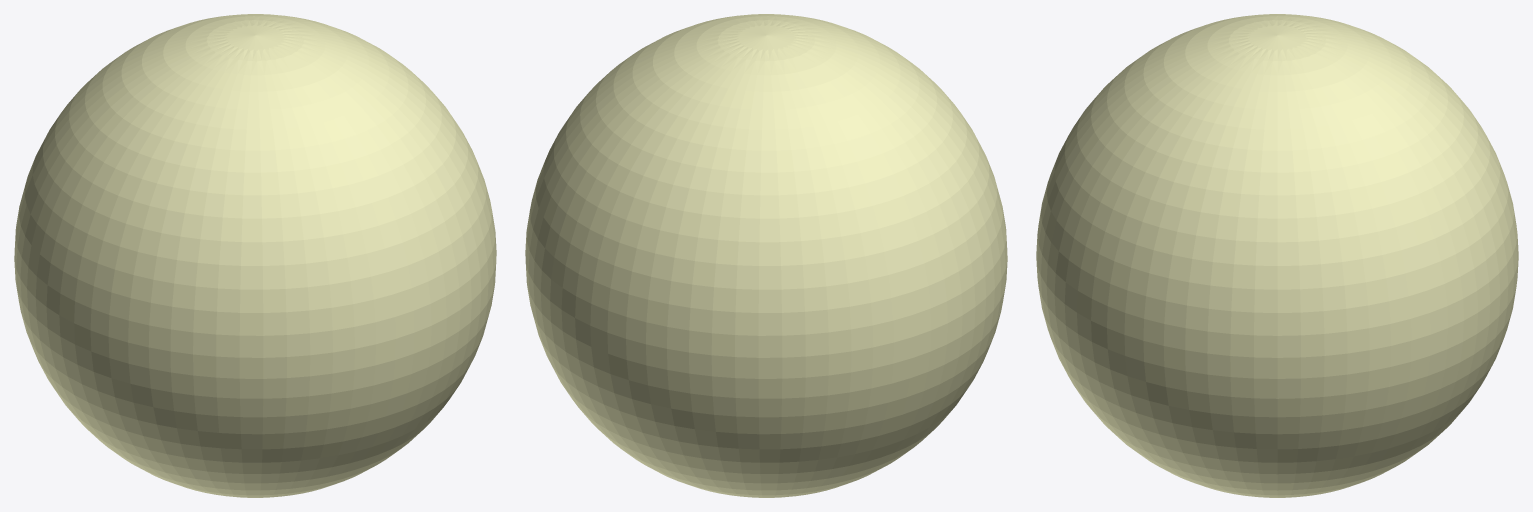
The model's file is moon.obj.
3 renders of one model, left to right at view 1: azimuth 30°, elevation 25°; view 2: azimuth 150°, elevation 25°; view 3: azimuth 270°, elevation 25°, orthographic.
Visible parts, largest first — view 1: Sphere; view 2: Sphere; view 3: Sphere.
Boxes of the visible parts, x1,y1,x2,y2 form: Sphere: (14, 14, 496, 497); Sphere: (525, 14, 1007, 497); Sphere: (1036, 14, 1518, 497).
Size of the model in its own units: 0.4952 by 0.4995 by 0.4952.
Materials: 1 (1 with a texture image).
